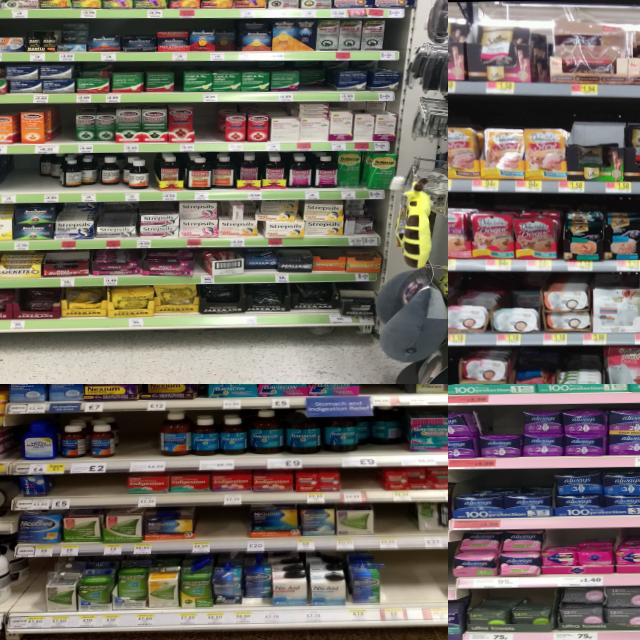100% O.O.S: (380, 556, 420, 620), (53, 474, 125, 508), (119, 414, 158, 472), (198, 506, 245, 552), (374, 502, 410, 548), (421, 558, 448, 619), (341, 468, 379, 502), (28, 561, 46, 627), (365, 384, 392, 405)
100- O.O.S: (1, 154, 39, 203), (195, 102, 218, 151), (59, 104, 75, 152), (384, 19, 399, 60)
